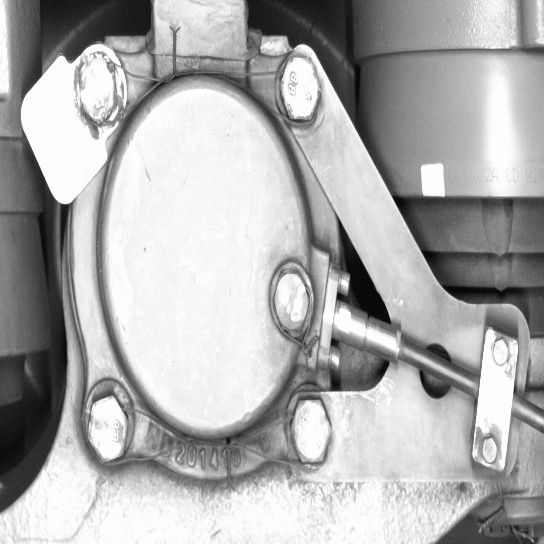IronWire: (60, 39, 329, 137), (80, 385, 338, 477)
Screw: (60, 40, 126, 137), (268, 43, 329, 133), (281, 390, 338, 476), (263, 256, 317, 344), (78, 385, 133, 469)
